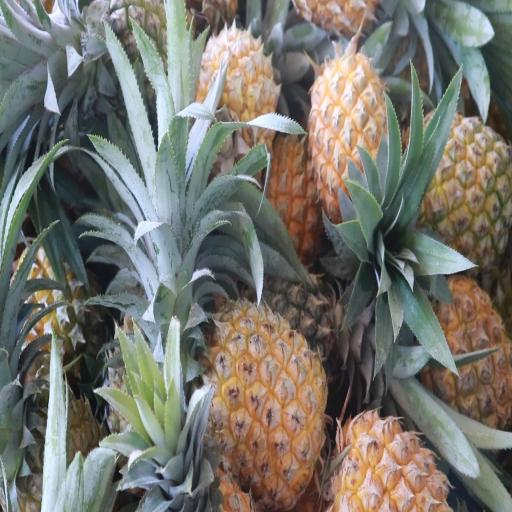Pineapple - v8 v1: (211, 295, 326, 500), (308, 46, 395, 217), (419, 113, 512, 272), (419, 279, 512, 433), (330, 408, 454, 512), (197, 25, 277, 167)
